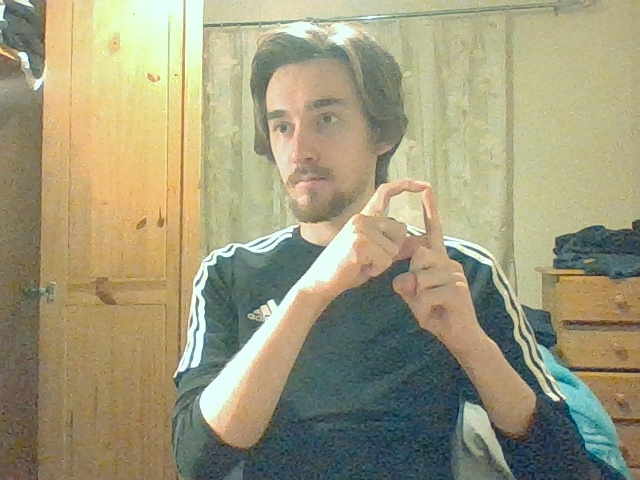daughter: (351, 178, 450, 298)
